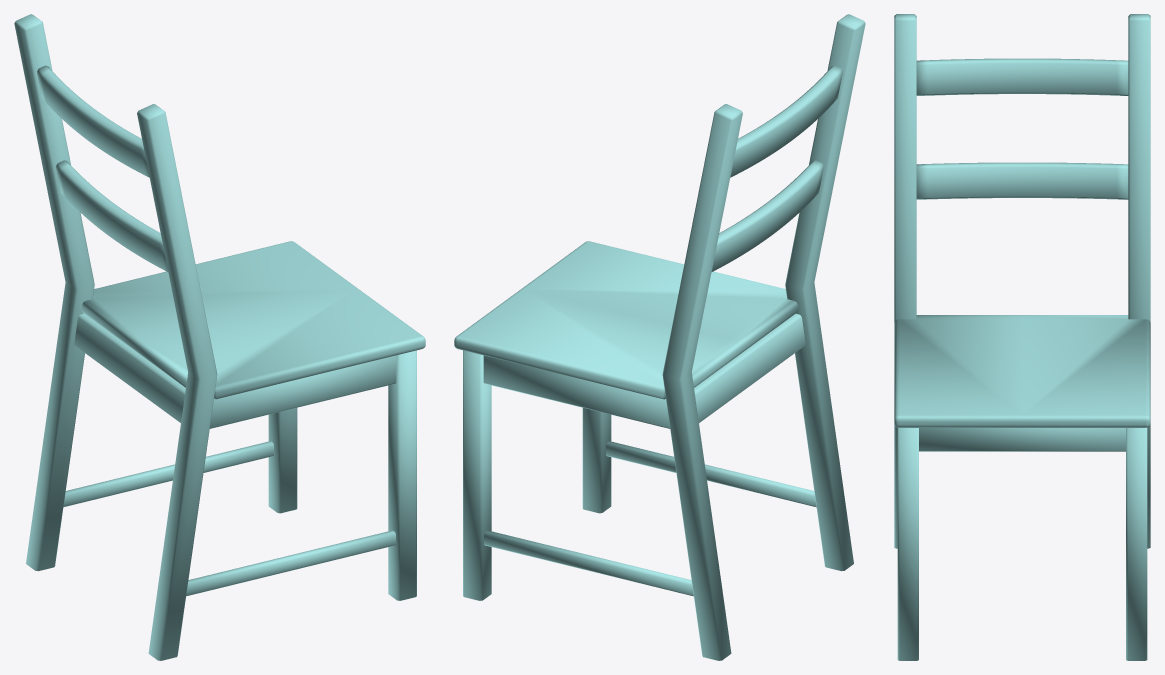
The model's file is Chair.obj.
3 views of the same model, side by side, from view 1: azimuth 30°, elevation 25°; view 2: azimuth 150°, elevation 25°; view 3: azimuth 270°, elevation 25° (orthographic). The views are drawn at different scales.
Parts seen in each view (by area): view 1: Legs, Cover; view 2: Legs, Cover; view 3: Legs, Cover.
Boxes of the visible parts, x1,y1,x2,y2 form: Legs: (14,14,416,660); Cover: (82,241,425,399); Legs: (463,14,865,660); Cover: (454,241,797,399); Legs: (894,14,1150,660); Cover: (894,315,1150,427).
Size of the model in its own units: 143 by 268 by 119.
